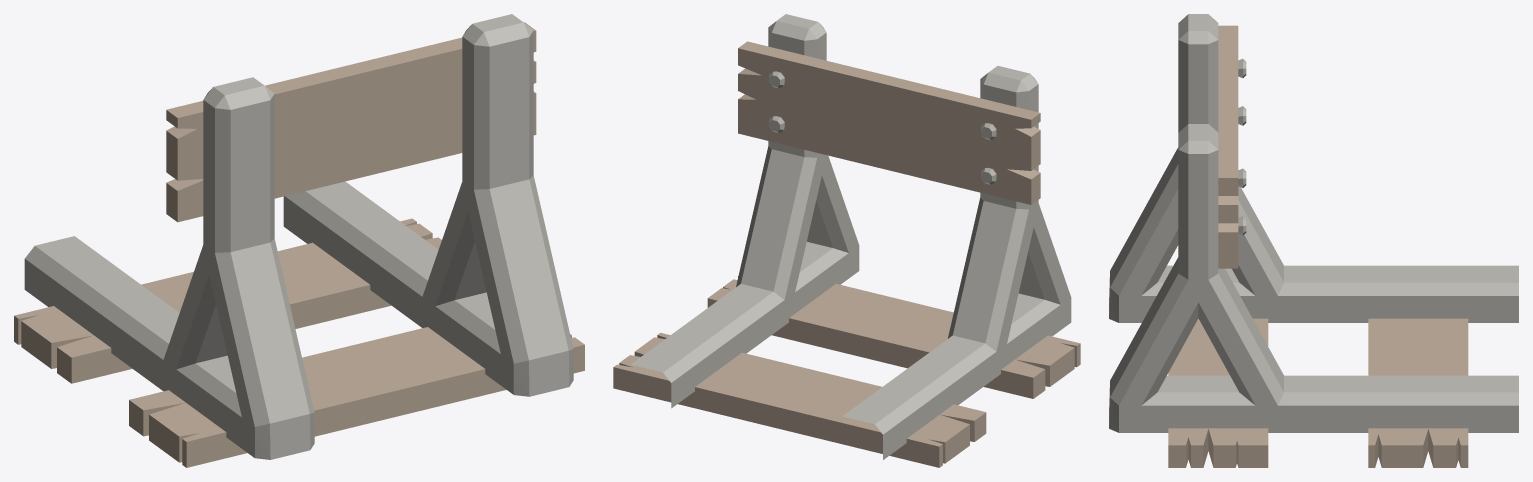
The model's file is Cave_Prop_Railway_Bumpstop.glb.
The picture shows the model from 3 angles, left to right: view 1: azimuth 30°, elevation 25°; view 2: azimuth 150°, elevation 25°; view 3: azimuth 270°, elevation 25°; orthographic projection. The views are drawn at different scales.
Parts seen in each view (by area): view 1: Cave_Prop_Railway_Bumpstop; view 2: Cave_Prop_Railway_Bumpstop; view 3: Cave_Prop_Railway_Bumpstop.
Part boxes in pixels (bbox=[...]): Cave_Prop_Railway_Bumpstop: bbox=[14, 14, 584, 467]; Cave_Prop_Railway_Bumpstop: bbox=[613, 14, 1080, 467]; Cave_Prop_Railway_Bumpstop: bbox=[1109, 14, 1518, 467].
Size of the model in its own units: 1 by 0.8444 by 1.02.
